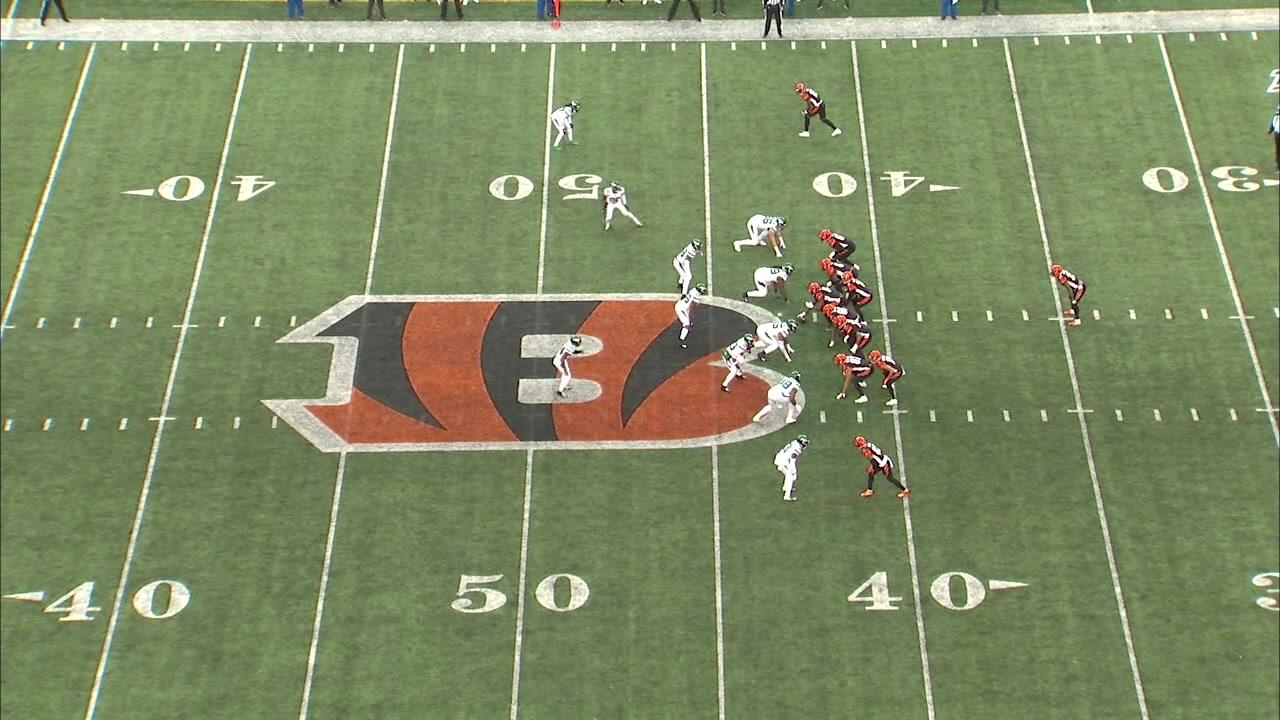defense: (751, 369, 803, 426), (772, 434, 813, 502), (733, 213, 790, 260), (672, 282, 709, 351), (550, 333, 587, 400), (599, 179, 644, 232), (741, 264, 798, 305), (719, 333, 756, 394), (671, 236, 705, 301), (755, 318, 800, 364), (548, 99, 582, 151)
oline: (794, 281, 850, 326), (817, 228, 862, 272), (822, 302, 864, 349), (833, 315, 874, 359), (819, 257, 860, 293)
qb: (837, 270, 874, 327)
ref: (762, 0, 786, 44), (1267, 101, 1280, 182)
skill: (849, 435, 911, 499), (794, 81, 844, 140), (1049, 263, 1088, 327), (833, 351, 876, 405), (869, 349, 907, 408)
